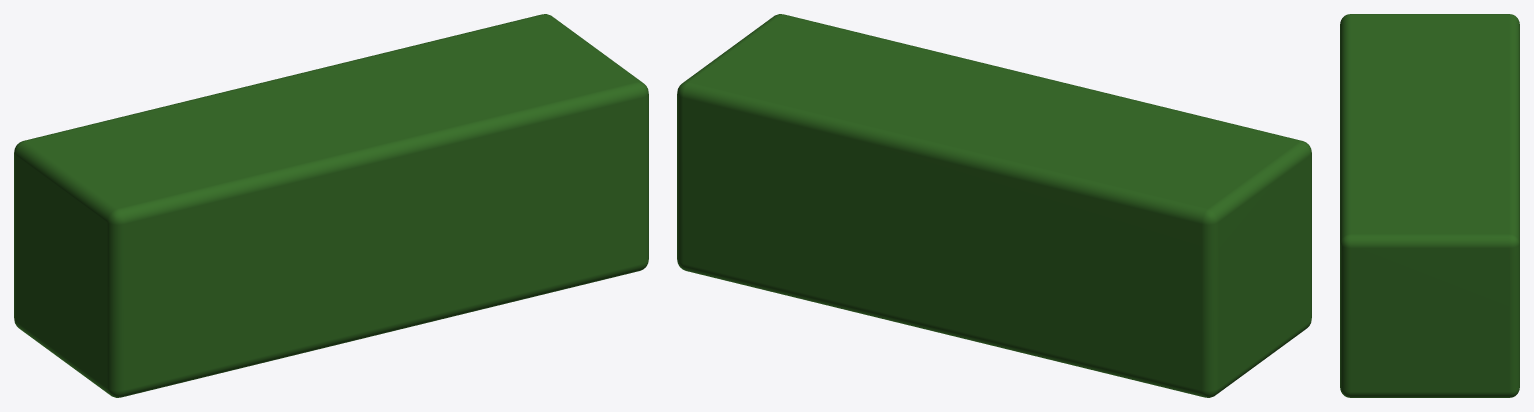
File: SimpleLongCube.fbx
The picture shows the model from 3 angles, left to right: view 1: azimuth 30°, elevation 25°; view 2: azimuth 150°, elevation 25°; view 3: azimuth 270°, elevation 25°; orthographic projection. The views are drawn at different scales.
Visible parts, largest first — view 1: SimpleLongCube; view 2: SimpleLongCube; view 3: SimpleLongCube.
Boxes of the visible parts, left/top/right/bottom form: SimpleLongCube: left=14, top=14, right=648, bottom=397; SimpleLongCube: left=677, top=14, right=1311, bottom=397; SimpleLongCube: left=1340, top=14, right=1519, bottom=397.
Bounding box in the file's own units: 300 × 100 × 100.
